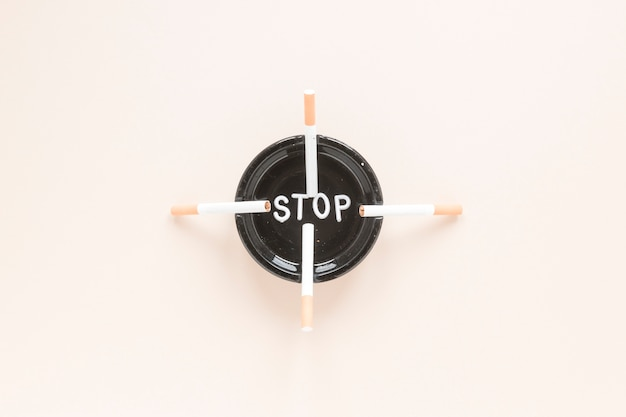cigarette: (302, 88, 319, 199), (298, 222, 314, 333), (357, 203, 465, 218), (170, 200, 272, 215)
